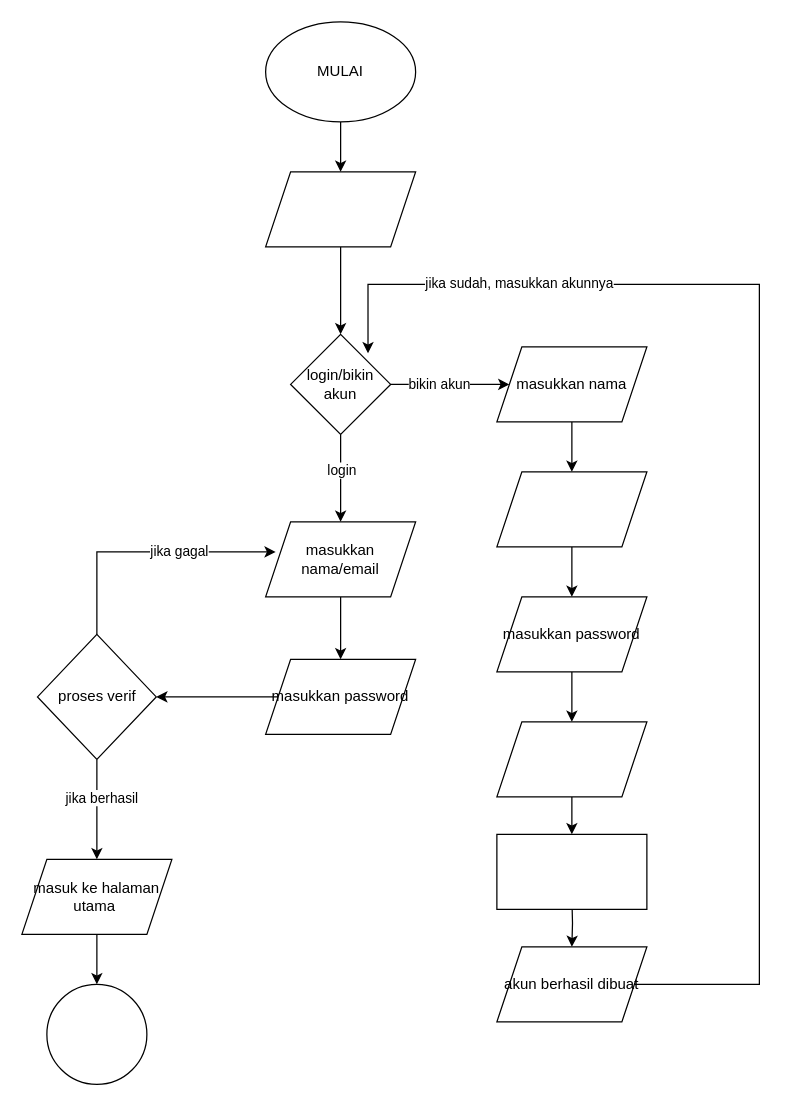
Some shapes in this 791 by 1106 pixel diagram are drawn without their labels. The shapes that lost their labels are listed below. From the top down, each one's centre as x and y in pixels, then its label:
(340,209): user memilih login
(571,509): masukkan email
(571,759): confirmasi password
(571,871): akun dibuat
(96,1033): selesai
